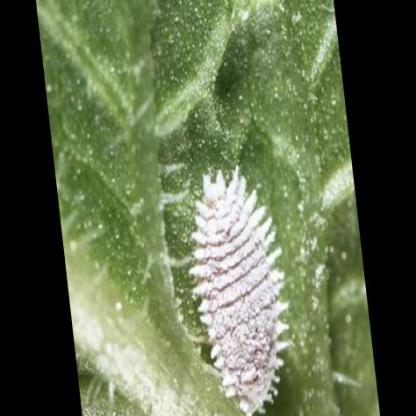mealy bug: (193, 178, 285, 413)
